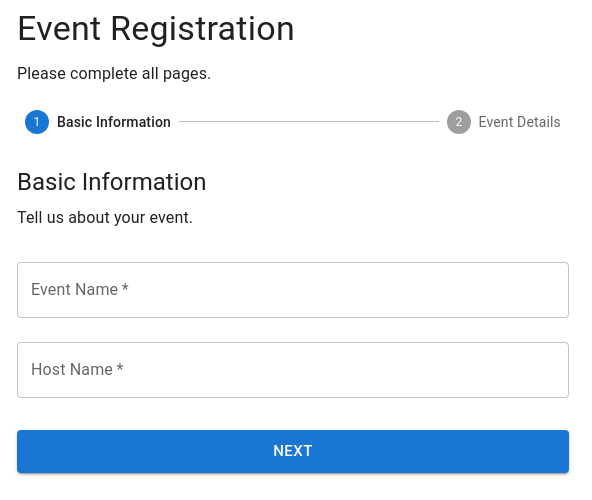
it: DynamicForm › Multi-page form › preserves form values when navigating between pages
The width and height of the screenshot is (592, 500).
Note: Fill in first page (both required fields)
Type "Birthday Party" into the field labelled "Event Name *".
click(293, 290); type("Birthday Party")  # box 17,262 -> 569,318
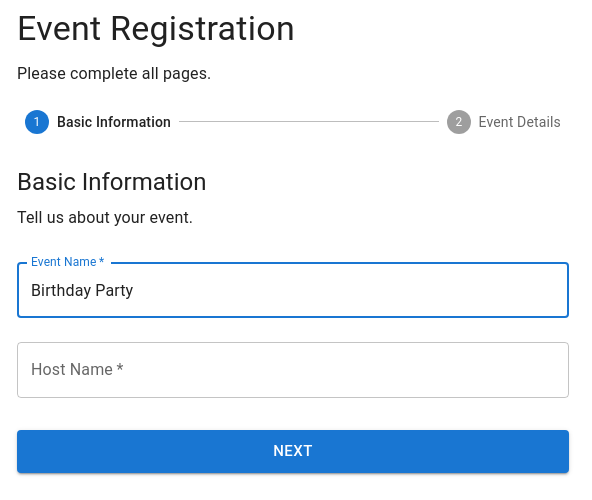
Type "Test Host" into the field labelled "Host Name *".
click(293, 370); type("Test Host")  # box 17,342 -> 569,398
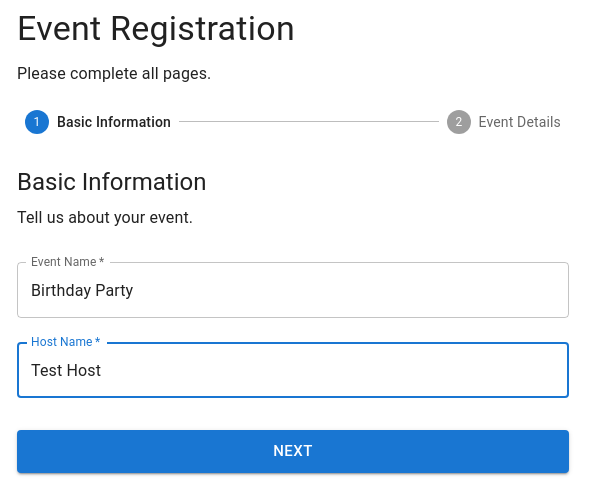
Note: Go to second page
Click the button "Next".
click(293, 451)  # box 17,430 -> 569,473
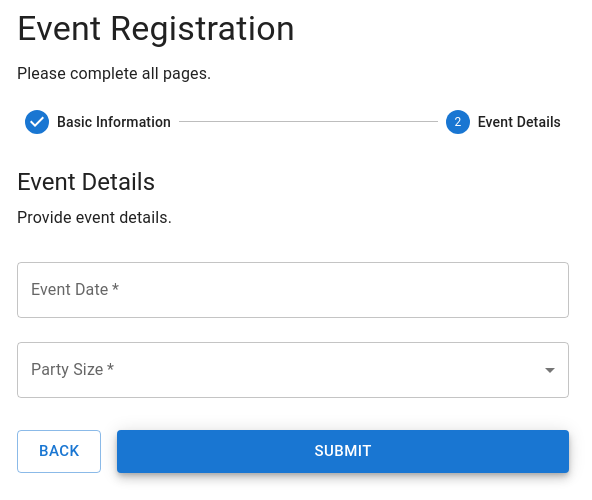
Note: Go back to first page
Click the button "Back".
click(59, 451)  # box 17,430 -> 101,473
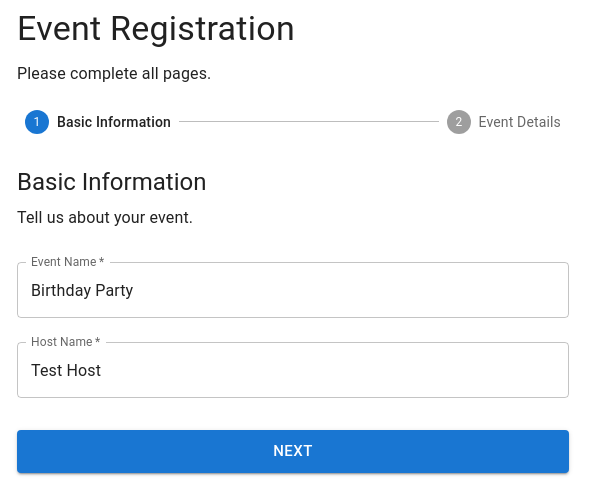
Expected: the field labelled "Event Name *" holds "Birthday Party", 17,262 -> 569,318
Expected: the field labelled "Host Name *" holds "Test Host", 17,342 -> 569,398
